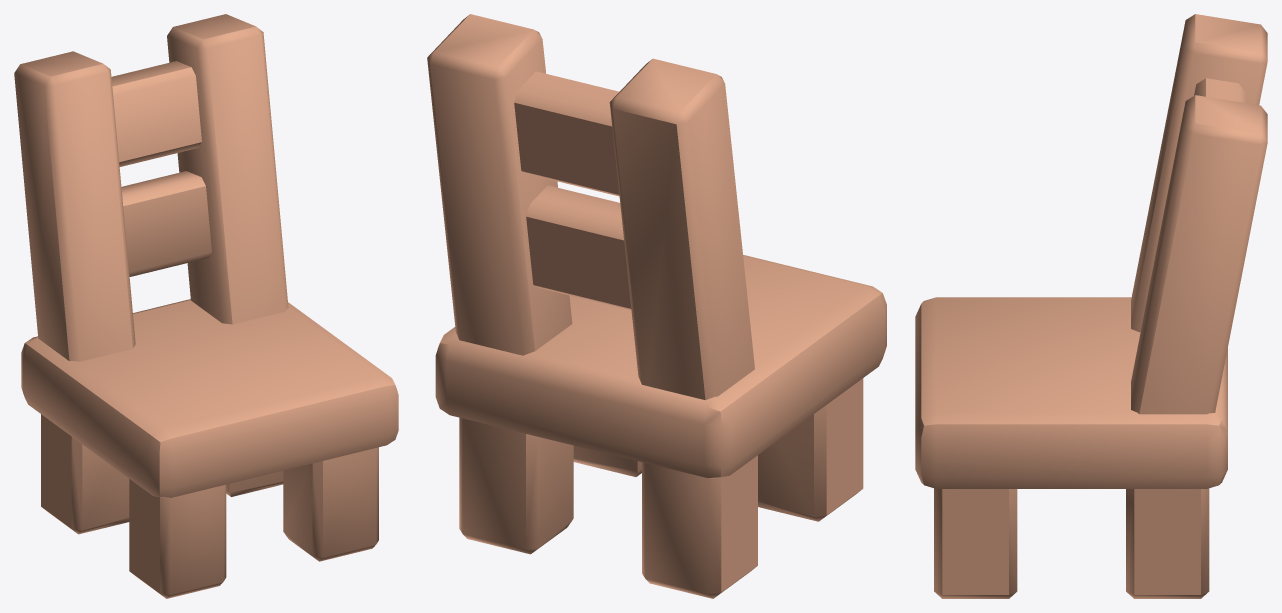
File: Chair.fbx
3 views of the same model, side by side, from view 1: azimuth 30°, elevation 25°; view 2: azimuth 150°, elevation 25°; view 3: azimuth 270°, elevation 25° (orthographic). The views are drawn at different scales.
Parts seen in each view (by area): view 1: chair_A; view 2: chair_A; view 3: chair_A.
Part boxes in pixels (x1,y1,x2,y2): chair_A: (14, 14, 398, 598); chair_A: (427, 14, 886, 598); chair_A: (915, 14, 1267, 598).
Bounding box in the file's own units: 2.73 × 4.58 × 3.07.
